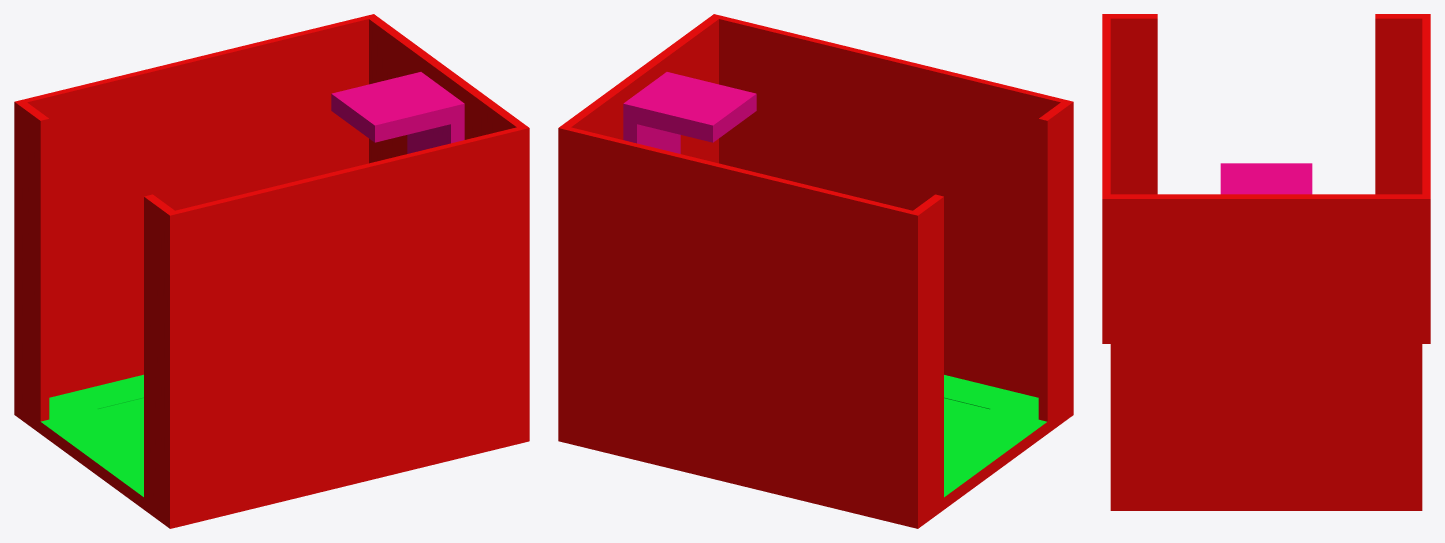
File: DuchaBien.FBX
3 renders of one model, left to right at view 1: azimuth 30°, elevation 25°; view 2: azimuth 150°, elevation 25°; view 3: azimuth 270°, elevation 25°, orthographic. The views are drawn at different scales.
Parts seen in each view (by area): view 1: Paredes, Suelo, Ducha; view 2: Paredes, Suelo, Ducha; view 3: Paredes, Ducha.
Boxes of the visible parts, box(x1,y1,x2,y2) form: Paredes: box(14, 14, 529, 528); Suelo: box(41, 374, 143, 496); Ducha: box(331, 72, 464, 153); Paredes: box(558, 14, 1073, 528); Suelo: box(944, 375, 1046, 497); Ducha: box(623, 72, 756, 153); Paredes: box(1102, 14, 1430, 510); Ducha: box(1220, 163, 1312, 194).
Size of the model in its own units: 131 by 109 by 97.91.
